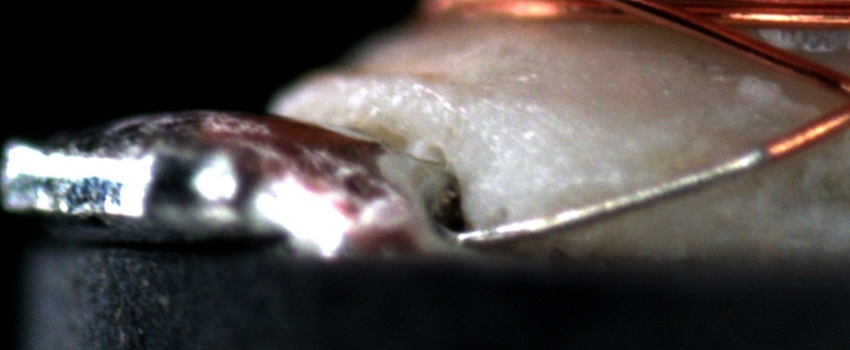CL: (812, 63, 850, 137)
TS: (458, 146, 769, 243)
